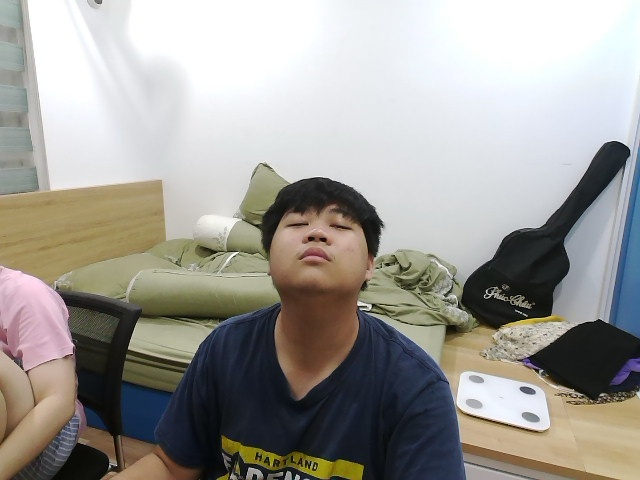face: (258, 177, 385, 295)
